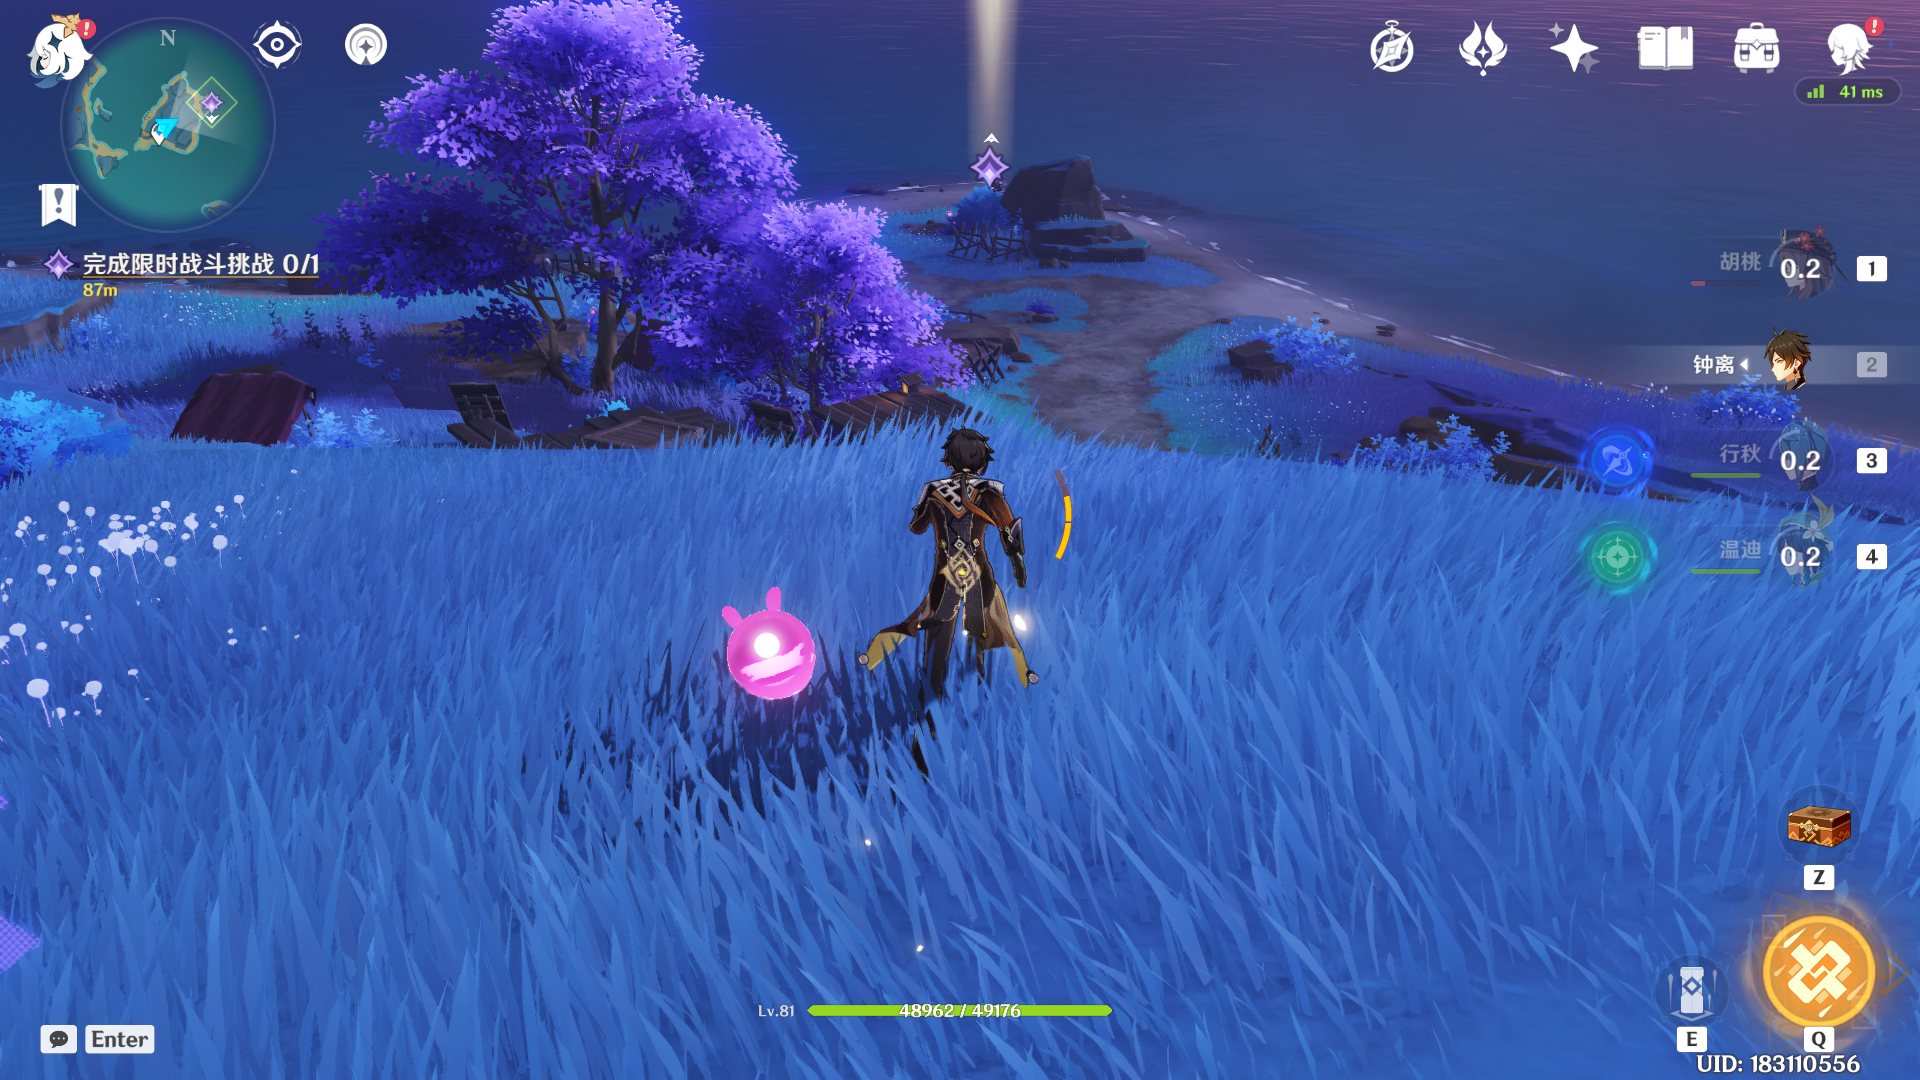character: (819, 417, 1106, 781)
